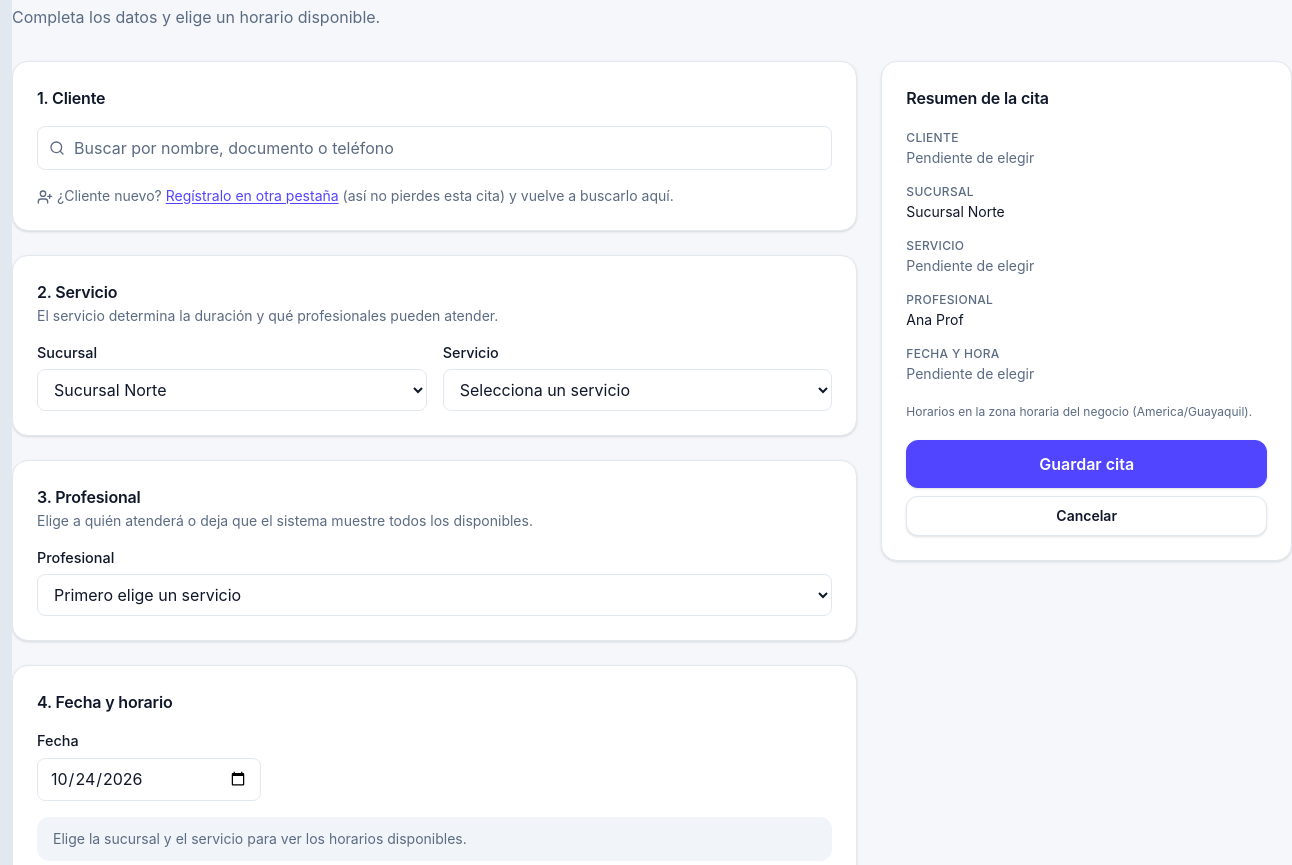
Test: BookAppointmentPage (Nueva cita) › identifica los horarios ocupados entre los disponibles
Select "Corte (30 min)" in the dropdown labelled "Servicio". click: (638,390)
box: [443,369,832,411]
(page scrolled)
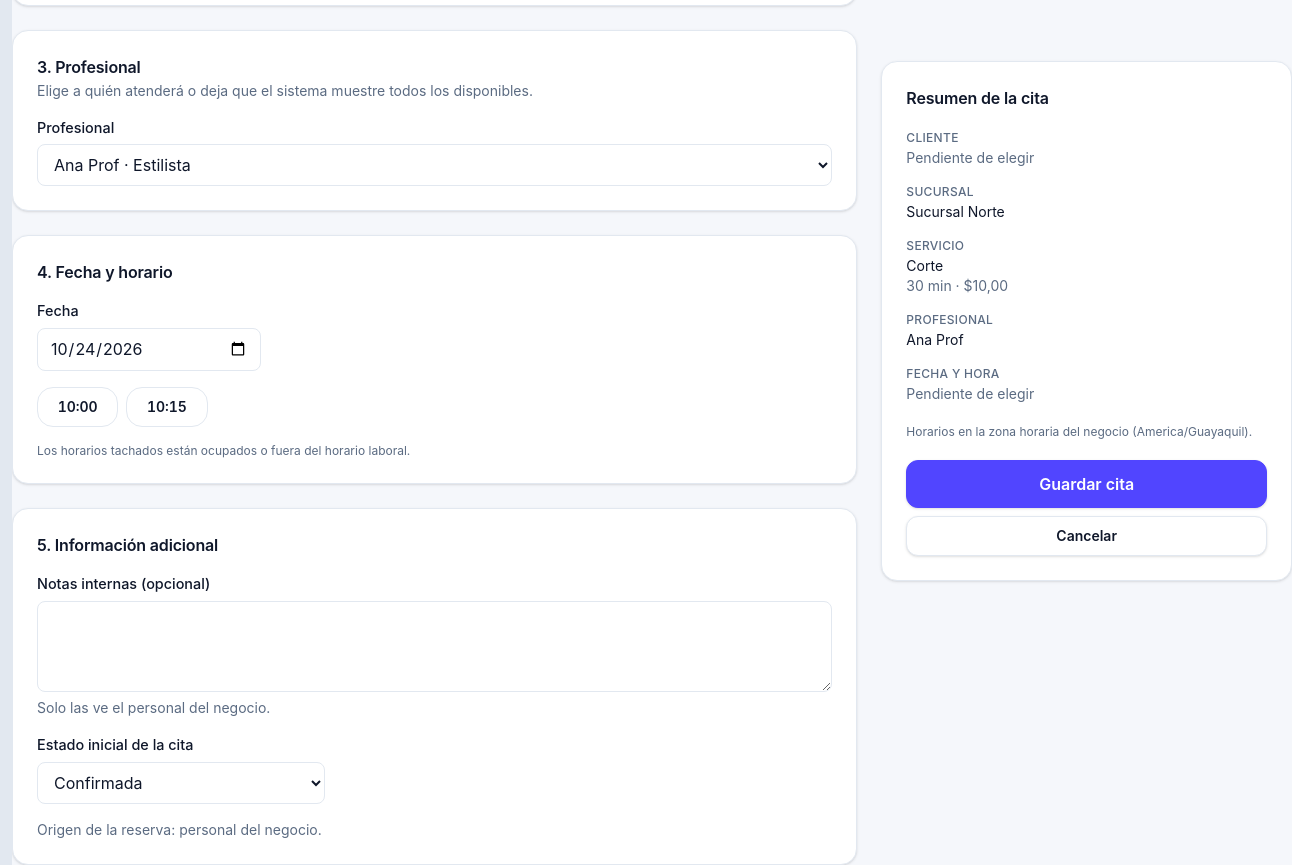
Expected: the button "10:00" is enabled, [37,387,118,427]
Expected: the button "10:15" is enabled, [126,387,208,427]
Expected: the text "ocupados o fuera del horario laboral" is shown, [37,443,410,458]
